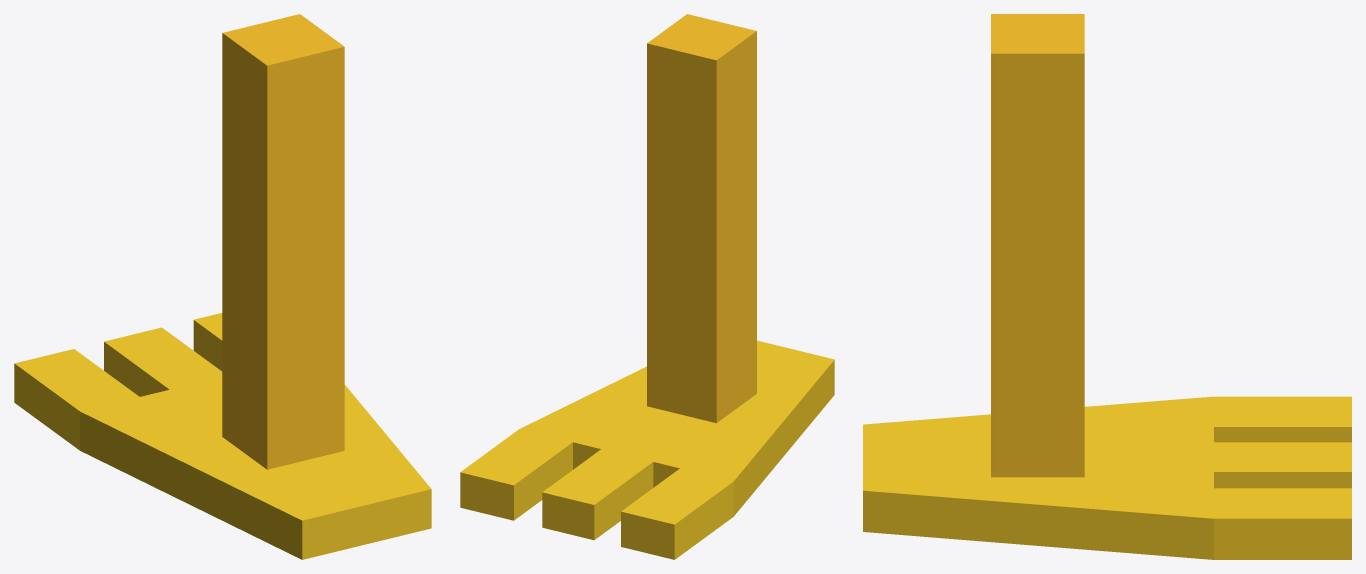
File: chicken_3.fbx
The picture shows the model from 3 angles, left to right: view 1: azimuth 30°, elevation 25°; view 2: azimuth 150°, elevation 25°; view 3: azimuth 270°, elevation 25°; orthographic projection. The views are drawn at different scales.
Visible parts, largest first — view 1: Sphere.008; view 2: Sphere.008; view 3: Sphere.008.
Boxes of the visible parts, <box> form: Sphere.008: <box>14,14,431,559</box>; Sphere.008: <box>460,14,834,559</box>; Sphere.008: <box>863,14,1351,559</box>.
Bounding box in the file's own units: 43.11 × 76.48 × 72.86.
